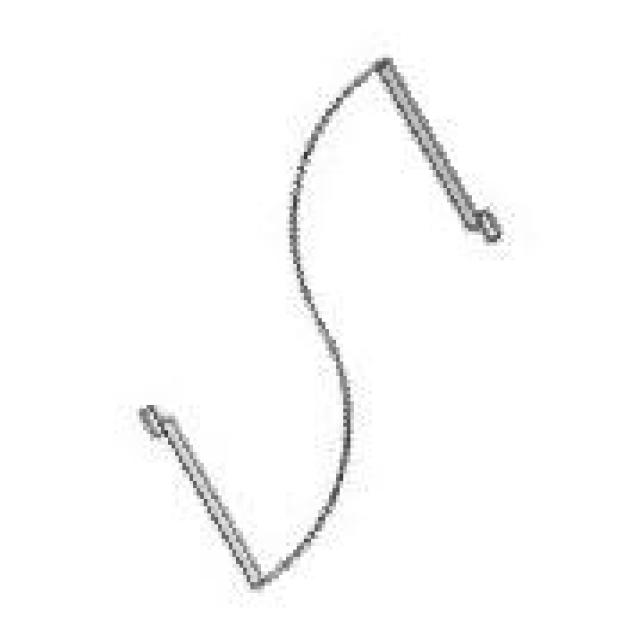door: (132, 58, 497, 586)
